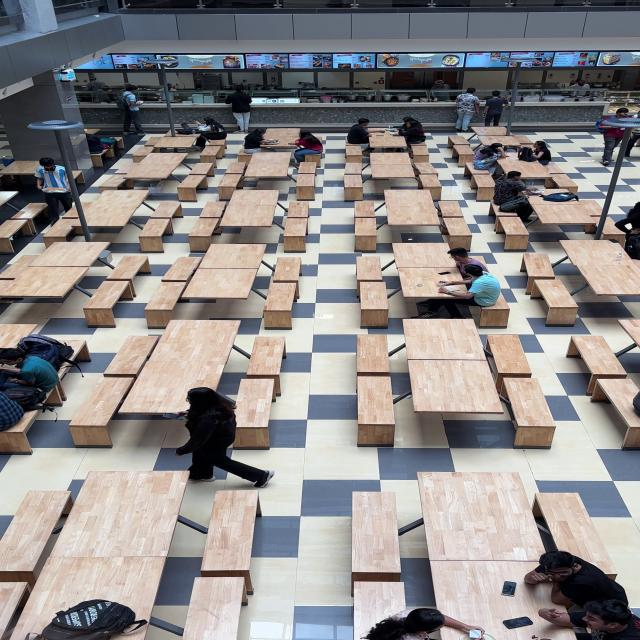Occupied: (425, 560, 585, 640), (525, 550, 632, 614), (447, 589, 568, 638), (421, 262, 504, 321), (549, 587, 640, 640), (376, 606, 481, 640), (0, 345, 65, 399), (398, 266, 471, 302), (489, 170, 540, 219), (466, 285, 512, 326), (0, 408, 43, 451), (343, 117, 382, 155), (84, 131, 122, 165), (240, 127, 282, 156), (185, 117, 228, 144), (470, 143, 508, 172), (253, 135, 310, 154), (520, 171, 556, 195), (398, 119, 429, 146), (450, 142, 478, 170), (526, 140, 554, 167), (390, 116, 416, 138), (297, 149, 324, 166), (100, 135, 126, 150), (88, 151, 105, 168), (69, 169, 85, 185), (85, 129, 100, 135)
Unoccupied: (4, 556, 174, 640), (47, 469, 195, 560), (416, 471, 548, 563), (197, 488, 263, 601), (0, 498, 71, 590), (534, 489, 620, 562), (406, 358, 506, 416), (127, 346, 223, 402), (64, 376, 139, 446), (347, 490, 400, 586), (553, 240, 640, 298), (176, 576, 248, 640), (498, 376, 559, 448), (566, 335, 632, 397), (401, 317, 489, 360), (66, 189, 156, 230), (0, 264, 94, 303), (229, 378, 279, 448), (484, 334, 537, 399), (524, 197, 604, 240), (214, 191, 284, 237), (354, 374, 398, 446), (161, 304, 231, 348), (177, 267, 262, 302), (100, 336, 164, 378), (244, 337, 288, 398), (24, 240, 115, 269), (378, 190, 442, 230), (530, 278, 582, 326), (345, 558, 407, 598), (192, 241, 271, 271), (80, 282, 134, 324), (495, 157, 563, 190), (103, 254, 154, 298), (239, 152, 295, 192), (140, 282, 188, 326), (0, 581, 34, 640), (388, 241, 454, 271), (260, 282, 301, 330), (353, 582, 404, 618), (518, 252, 559, 296), (356, 281, 392, 328), (591, 376, 640, 410), (354, 335, 393, 376), (126, 153, 184, 180), (2, 201, 52, 232), (587, 213, 634, 244), (158, 255, 205, 284), (494, 214, 533, 248), (146, 136, 210, 156), (144, 200, 184, 231), (438, 215, 476, 247), (136, 217, 173, 249), (40, 218, 82, 246), (0, 323, 39, 353), (0, 160, 43, 187), (462, 254, 494, 290), (221, 238, 278, 258), (172, 173, 211, 202), (270, 255, 304, 287), (0, 254, 40, 281), (467, 125, 515, 147), (186, 219, 220, 250), (280, 216, 310, 251), (180, 158, 219, 184), (353, 255, 385, 286), (213, 171, 247, 200), (476, 134, 525, 154), (368, 160, 417, 180), (230, 216, 274, 238), (467, 171, 498, 202), (0, 218, 34, 245), (462, 160, 496, 186), (58, 338, 92, 364), (195, 143, 228, 169), (545, 172, 582, 195), (90, 172, 130, 193), (292, 170, 319, 200), (615, 320, 640, 352), (195, 200, 229, 221), (193, 243, 213, 276), (129, 143, 161, 163), (351, 200, 380, 222), (436, 200, 466, 220), (220, 158, 250, 177), (287, 227, 314, 247), (57, 202, 86, 220), (445, 134, 474, 152), (407, 143, 432, 163), (56, 492, 76, 517), (415, 172, 444, 189), (342, 144, 366, 164), (294, 158, 320, 176), (373, 135, 404, 149), (199, 229, 221, 247), (565, 337, 583, 359), (140, 136, 163, 148), (111, 164, 134, 174)
